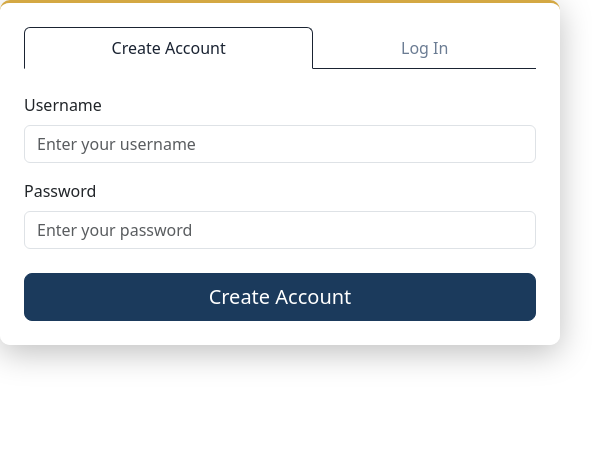
Test case: Create Account tab › shows an error alert and does not navigate when registration fails
Click the button "Create Account".
click(280, 297)  # box [24, 273, 536, 321]
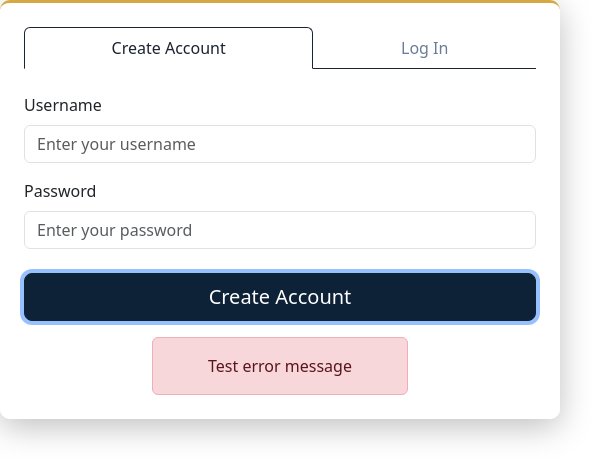
Expected: the message reads "Test error message", [208, 355, 352, 377]
